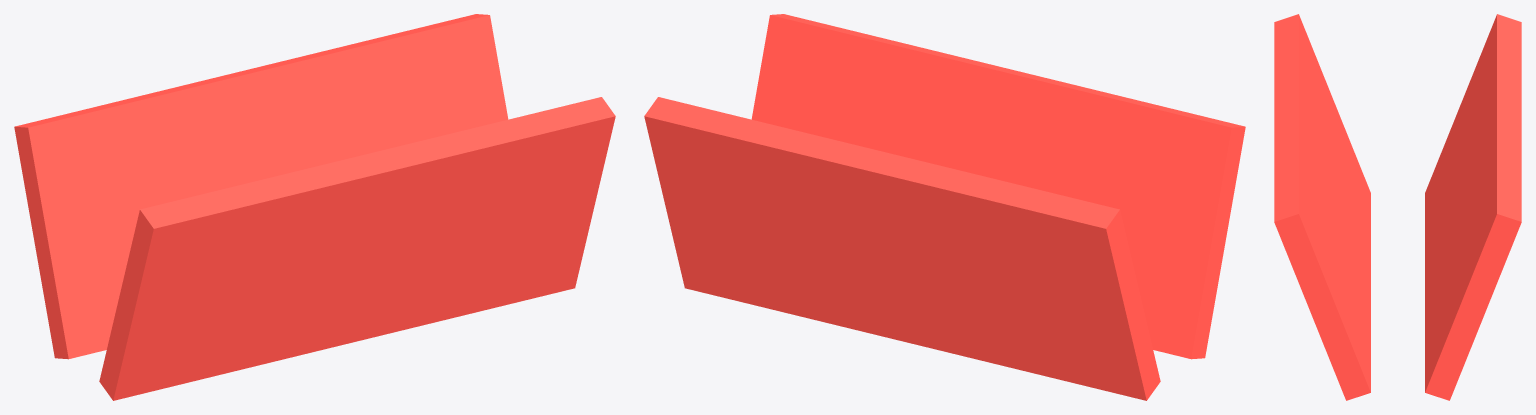
File: reserved_sign.glb
The picture shows the model from 3 angles, left to right: view 1: azimuth 30°, elevation 25°; view 2: azimuth 150°, elevation 25°; view 3: azimuth 270°, elevation 25°; orthographic projection. The views are drawn at different scales.
Visible parts, largest first — view 1: reserved_sign_mesh; view 2: reserved_sign_mesh; view 3: reserved_sign_mesh.
Boxes of the visible parts, x1,y1,x2,y2 form: reserved_sign_mesh: (14,14,615,400); reserved_sign_mesh: (644,14,1245,400); reserved_sign_mesh: (1274,14,1521,400).
Size of the model in its own units: 0.36 by 0.1572 by 0.1885.
